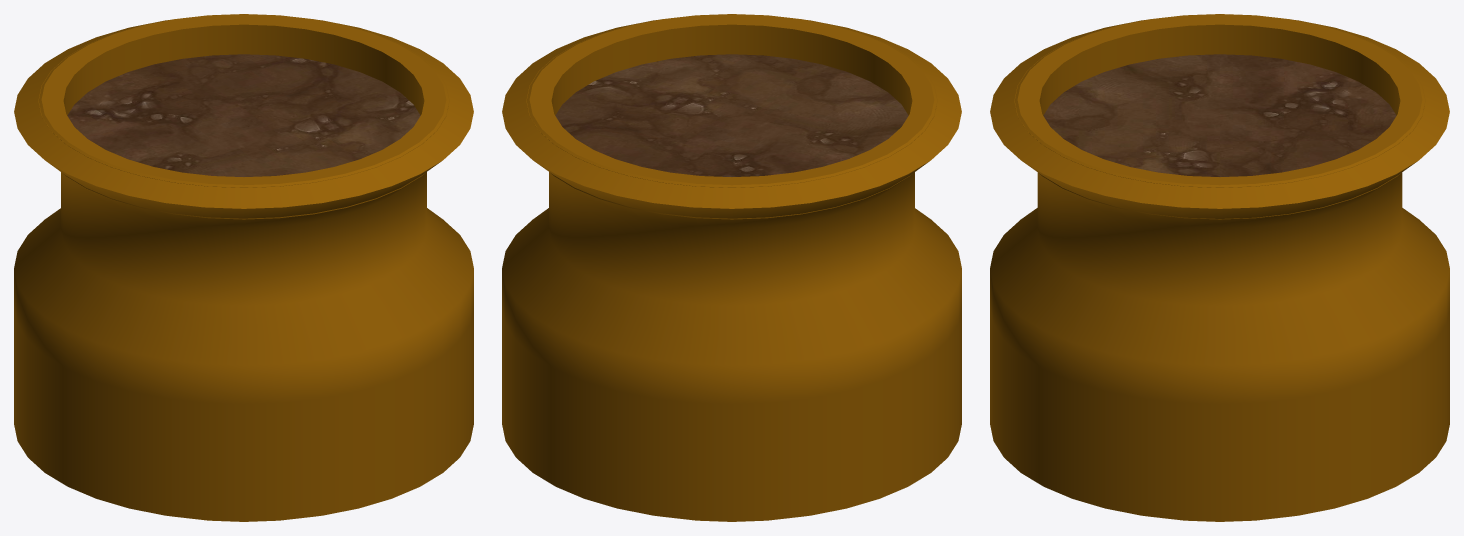
Rendered from Pot.fbx.
The picture shows the model from 3 angles, left to right: view 1: azimuth 30°, elevation 25°; view 2: azimuth 150°, elevation 25°; view 3: azimuth 270°, elevation 25°; orthographic projection.
Visible parts, largest first — view 1: Citerne, Disque, Tube; view 2: Citerne, Disque, Tube; view 3: Citerne, Disque, Tube.
Boxes of the visible parts, x1=… form: Citerne: x1=14, y1=14, x2=473, y2=521; Disque: x1=67, y1=54, x2=420, y2=176; Tube: x1=38, y1=14, x2=449, y2=219; Citerne: x1=502, y1=14, x2=961, y2=521; Disque: x1=555, y1=54, x2=908, y2=176; Tube: x1=526, y1=14, x2=937, y2=219; Citerne: x1=990, y1=14, x2=1449, y2=521; Disque: x1=1043, y1=54, x2=1396, y2=176; Tube: x1=1014, y1=14, x2=1425, y2=219.
Bounding box in the file's own units: 200 × 181 × 200.
2 materials, 1 textured.
